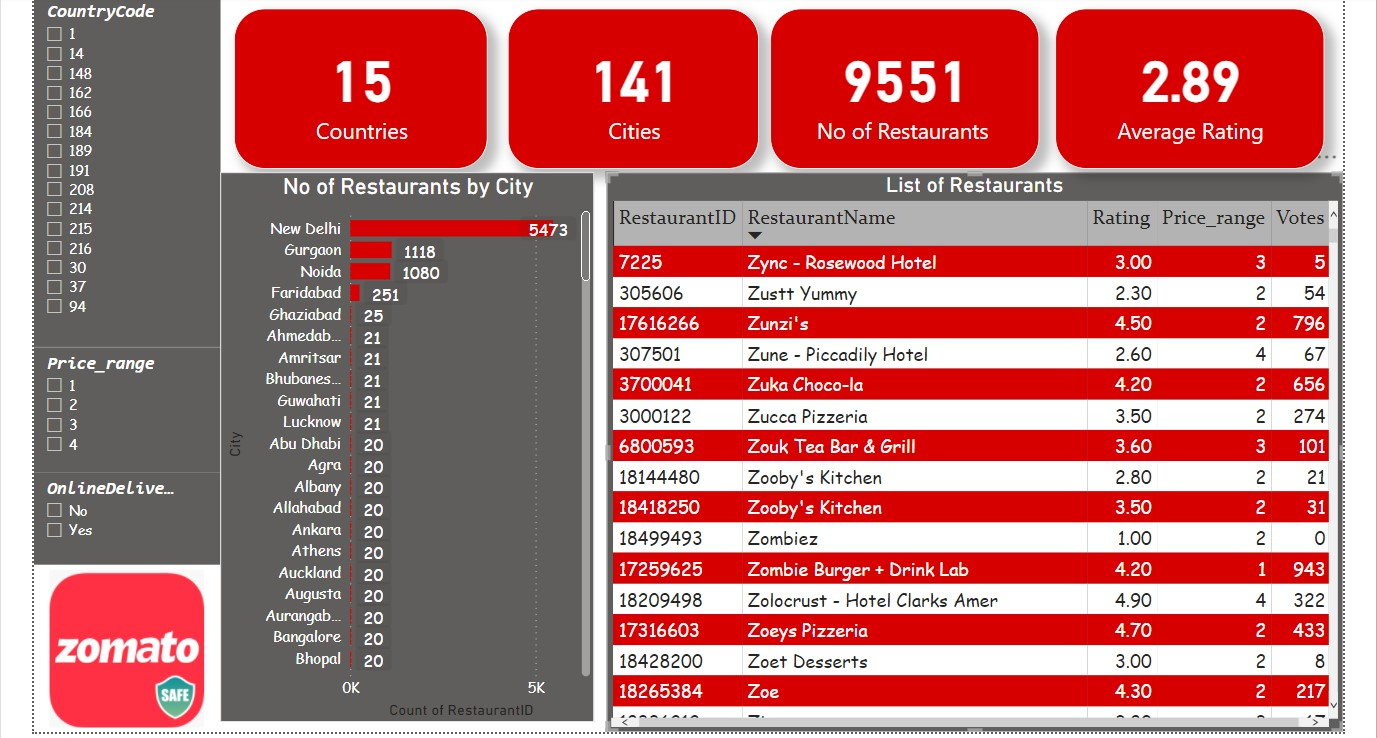

This screenshot's page, from the dashboard's own definition file:
{"tool":"powerbi","page":{"name":"zomato dashboard","canvas":[1280,720],"ordinal":0},"visuals":[{"type":"card","fields":{"Values":["Count(ZomatoData.RestaurantID)"]},"box":[720,12.2,262.8,156.5],"z":0},{"type":"card","fields":{"Values":["Count(ZomatoData.CountryCode)"]},"box":[195.6,12.2,248.1,156.5],"z":1000},{"type":"card","fields":{"Values":["Count(ZomatoData.City)"]},"box":[463.3,12.2,245.7,156.5],"z":2000},{"type":"slicer","fields":{"Values":["ZomatoData.CountryCode"]},"box":[0,0,182.1,343.5],"z":3000},{"type":"slicer","fields":{"Values":["ZomatoData.Price_range"]},"box":[0,343.5,195.6,122.2],"z":4000},{"type":"slicer","fields":{"Values":["ZomatoData.Has_Online_delivery"]},"box":[0,465.7,182.1,90.5],"z":5000},{"type":"barChart","title":"No of Restaurants by City","fields":{"Category":["ZomatoData.City"],"Y":["CountNonNull(ZomatoData.RestaurantID)"]},"box":[182.1,172.4,365.5,537.9],"z":6000},{"type":"tableEx","title":"List of Restaurants","fields":{"Values":["ZomatoData.RestaurantID","ZomatoData.RestaurantName","ZomatoData.Rating","ZomatoData.Price_range","ZomatoData.Votes"]},"box":[559.9,172.4,720,547.6],"z":7000},{"type":"image","box":[0,556.2,182.1,163.8],"z":8000},{"type":"card","fields":{"Values":["Avg(ZomatoData.Rating)"]},"box":[998.7,12.2,262.8,156.5],"z":9000}]}

Visuals, with their boxes in screenshot pixels (x1, y1, x2, y2):
card - Count(ZomatoData.RestaurantID): 764/5/1030/164
card - Count(ZomatoData.CountryCode): 234/5/485/164
card - Count(ZomatoData.City): 505/5/753/164
slicer - ZomatoData.CountryCode: 36/0/220/340
slicer - ZomatoData.Price_range: 36/340/234/464
slicer - ZomatoData.Has_Online_delivery: 36/464/220/556
"No of Restaurants by City" barChart: 220/167/590/712
"List of Restaurants" tableEx: 602/167/1331/721
image: 36/556/220/721
card - Avg(ZomatoData.Rating): 1046/5/1312/164
